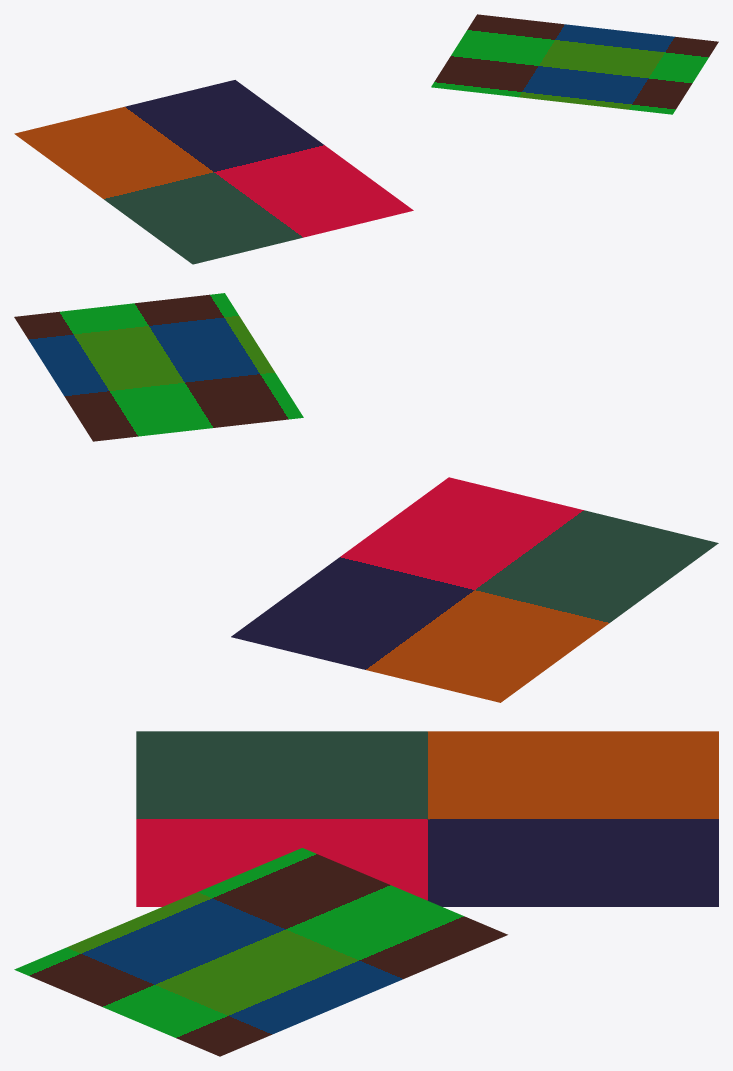
The model's file is transformed_scene_textures.gltf.
3 views of the same model, one above another, from view 1: azimuth 30°, elevation 25°; view 2: azimuth 150°, elevation 25°; view 3: azimuth 270°, elevation 25° (orthographic). The views are drawn at different scales.
Visible parts, largest first — view 1: left_static, right_reflected_raised; view 2: left_static, right_reflected_raised; view 3: left_static, right_reflected_raised.
Boxes of the visible parts, box(x1,y1,x2,y2) form: left_static: box(14, 80, 413, 264); right_reflected_raised: box(431, 14, 718, 114); left_static: box(231, 477, 718, 702); right_reflected_raised: box(14, 293, 303, 441); left_static: box(136, 731, 718, 906); right_reflected_raised: box(14, 848, 507, 1056).
Size of the model in its own units: 1.25 by 0.15 by 0.847.
2 materials, 2 textured.
